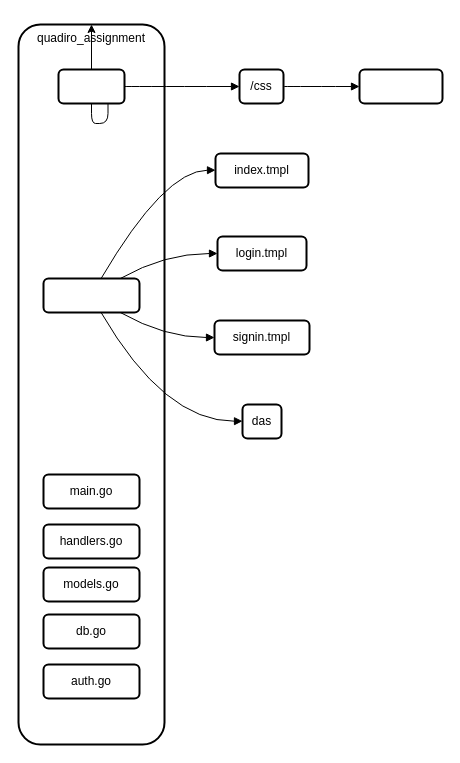
The diagram is 460 pixels wide and 763 high, and some of its shapes have lost their labels. Each missing label, with the centre of its shape:
/assets: the point at 91,86
/templates: the point at 91,295
styles.css: the point at 400,86
